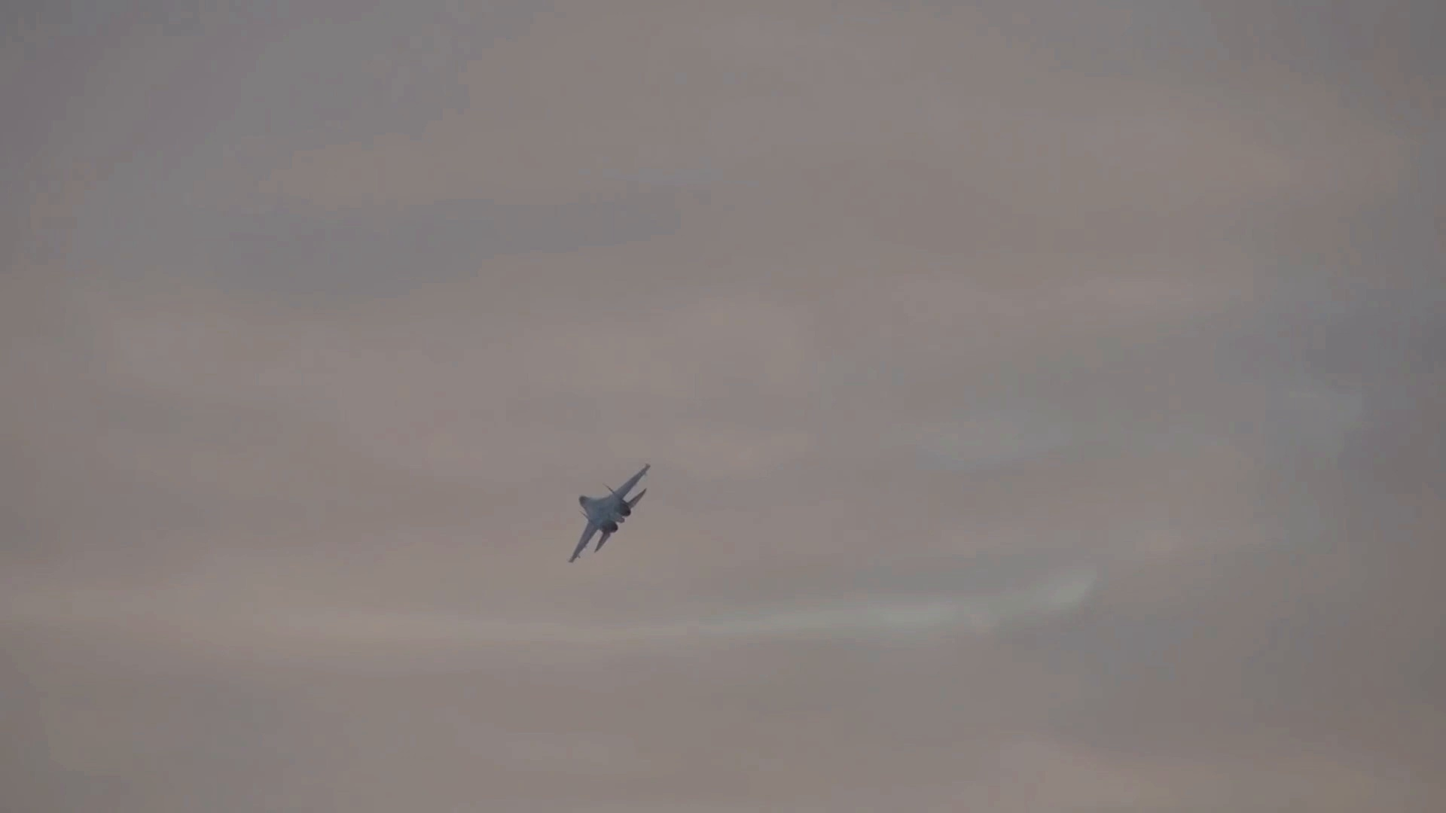Su35: (571, 465, 648, 560)
